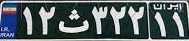character: (56, 4, 91, 37), (36, 3, 56, 38), (90, 4, 109, 37), (127, 3, 146, 36), (109, 3, 127, 37), (20, 3, 36, 38), (170, 10, 188, 39), (152, 10, 170, 38)
